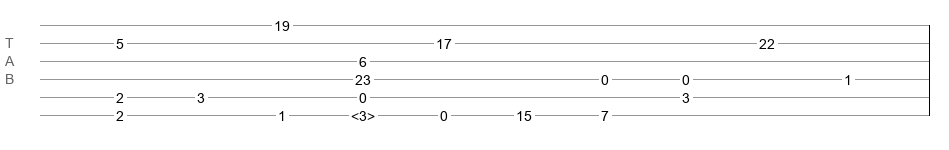0: (359, 90, 367, 100), (440, 108, 448, 118), (601, 72, 609, 82), (682, 72, 690, 82)
1: (278, 108, 286, 118), (844, 72, 852, 82)
15: (516, 108, 532, 118)
17: (436, 36, 452, 46)
19: (274, 18, 290, 28)
2: (116, 90, 124, 100), (116, 108, 124, 118)
22: (759, 36, 775, 46)
23: (355, 72, 371, 82)
3: (197, 90, 205, 100), (682, 90, 690, 100)
5: (116, 36, 124, 46)
6: (359, 54, 367, 64)
7: (601, 108, 609, 118)
harmonic: (351, 108, 375, 118)
